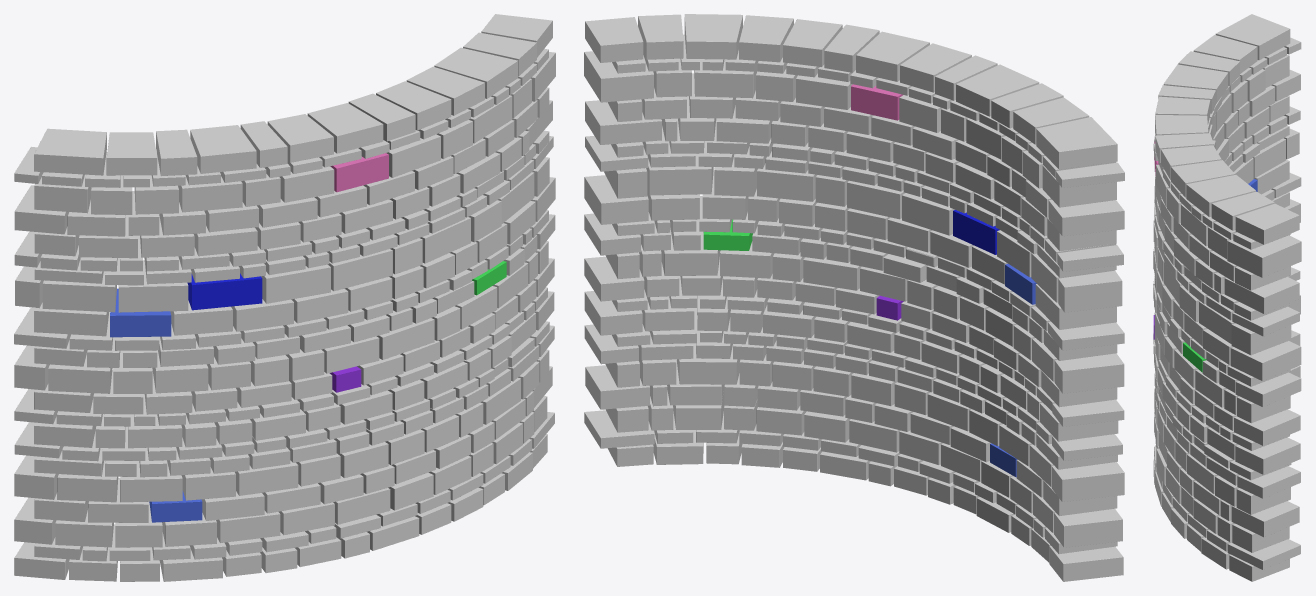
The model's file is wall-test.glb.
The picture shows the model from 3 angles, left to right: view 1: azimuth 30°, elevation 25°; view 2: azimuth 150°, elevation 25°; view 3: azimuth 270°, elevation 25°; orthographic projection. The views are drawn at different scales.
Visible parts, largest first — view 1: Wall.194; view 2: Wall.194; view 3: Wall.194.
Boxes of the visible parts, left/top/right/bottom form: Wall.194: left=14, top=14, right=555, bottom=581; Wall.194: left=584, top=14, right=1124, bottom=581; Wall.194: left=1153, top=14, right=1301, bottom=581.
Bounding box in the file's own units: 19.94 × 14.89 × 5.61.
